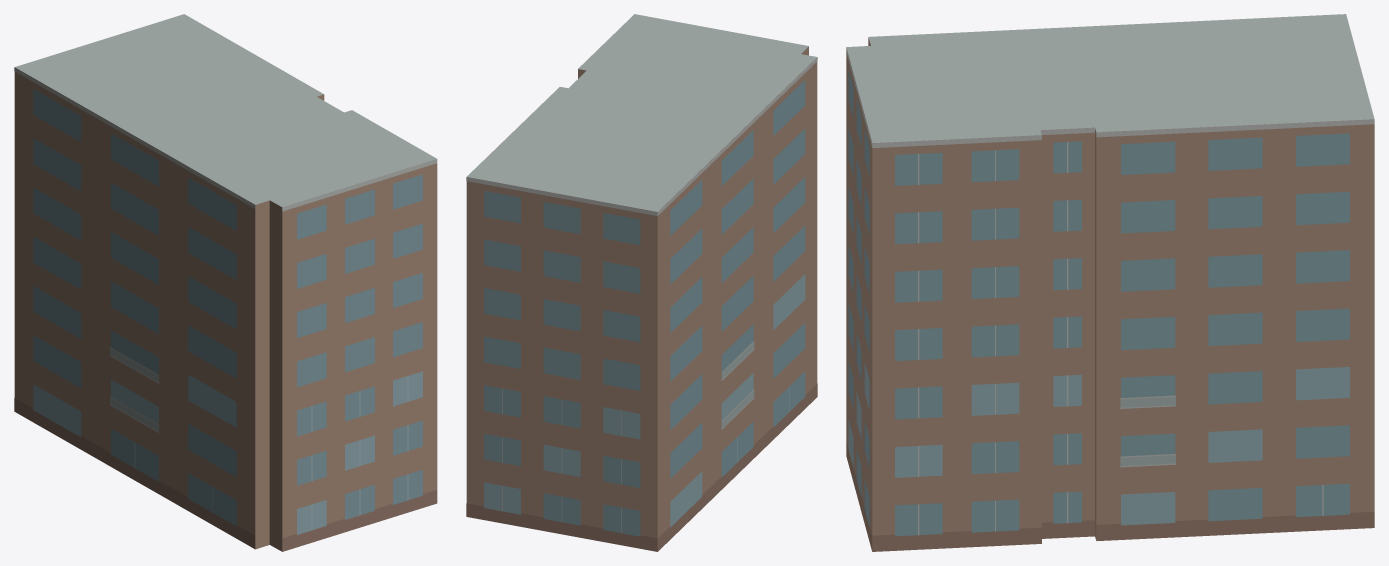
The model's file is survey-upis-32742532.glb.
The picture shows the model from 3 angles, left to right: view 1: azimuth 30°, elevation 25°; view 2: azimuth 150°, elevation 25°; view 3: azimuth 270°, elevation 25°; orthographic projection. The views are drawn at different scales.
Visible parts, largest first — view 1: survey-upis-32742532.tmp; view 2: survey-upis-32742532.tmp; view 3: survey-upis-32742532.tmp.
Part boxes in pixels (x1,y1,x2,y2): survey-upis-32742532.tmp: [14, 14, 437, 551]; survey-upis-32742532.tmp: [466, 14, 817, 551]; survey-upis-32742532.tmp: [846, 14, 1374, 551].
Size of the model in its own units: 13.46 by 19.85 by 23.26.
